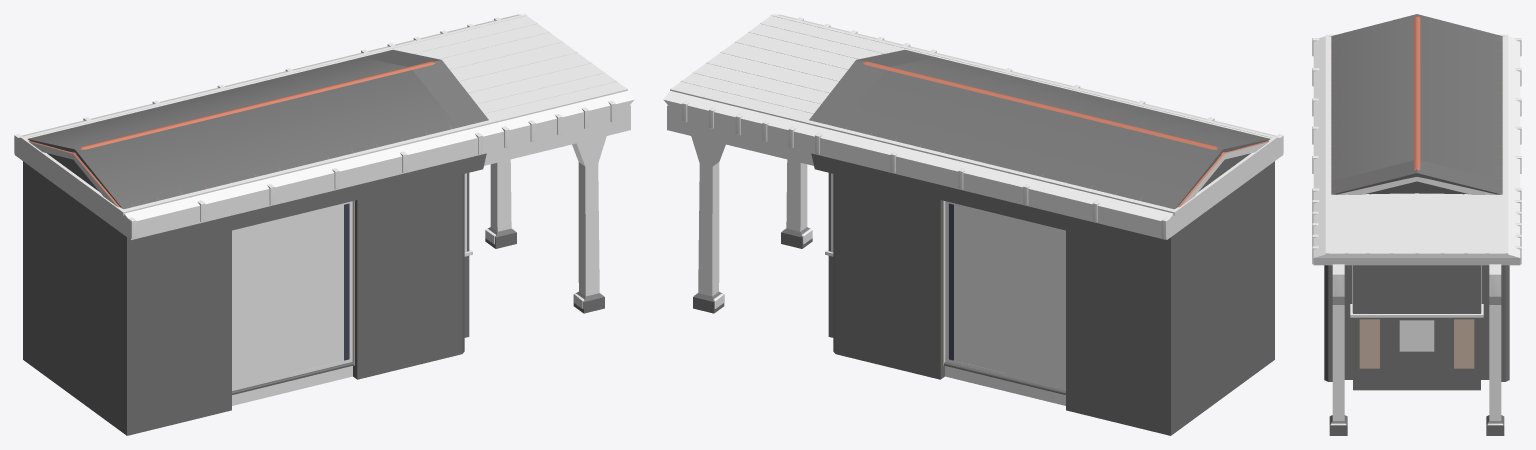
Rendered from s_gatehouse_01.dae.
3 renders of one model, left to right at view 1: azimuth 30°, elevation 25°; view 2: azimuth 150°, elevation 25°; view 3: azimuth 270°, elevation 25°, orthographic. The views are drawn at different scales.
Visible parts, largest first — view 1: Colmesh_s_gatehouse_01-1, s_gatehouse_01_L350, s_gatehouse_01_L500, s_gatehouse_01_L40; view 2: Colmesh_s_gatehouse_01-1, s_gatehouse_01_L500, s_gatehouse_01_L350, s_gatehouse_01_L40; view 3: Colmesh_s_gatehouse_01-1, s_gatehouse_01_L500, s_gatehouse_01_L350.
Boxes of the visible parts, x1,y1,x2,y2 form: Colmesh_s_gatehouse_01-1: (14, 14, 634, 435); s_gatehouse_01_L350: (20, 14, 627, 394); s_gatehouse_01_L500: (14, 14, 627, 392); s_gatehouse_01_L40: (344, 203, 349, 360); Colmesh_s_gatehouse_01-1: (663, 14, 1283, 435); s_gatehouse_01_L500: (670, 14, 1283, 394); s_gatehouse_01_L350: (694, 32, 1275, 365); s_gatehouse_01_L40: (948, 203, 953, 360); Colmesh_s_gatehouse_01-1: (1313, 14, 1520, 435); s_gatehouse_01_L500: (1312, 16, 1521, 425); s_gatehouse_01_L350: (1325, 16, 1508, 317).
Size of the model in its own units: 6.57 by 2.62 by 3.05.
